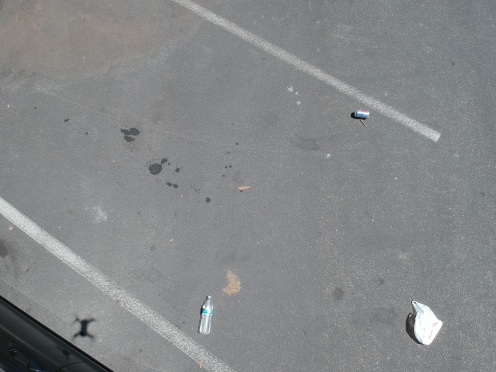bottle: (190, 286, 219, 343)
can: (351, 107, 375, 124)
plastic bag: (404, 293, 446, 348)
